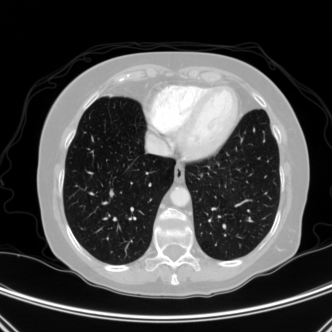nodule: (108, 190, 114, 196)
